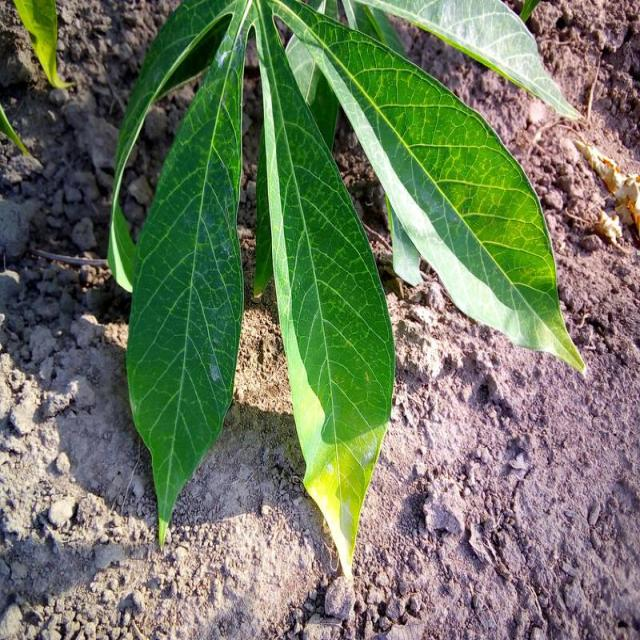cassava leaf: (107, 0, 586, 577), (272, 0, 586, 377), (251, 0, 396, 580), (123, 1, 250, 547)
